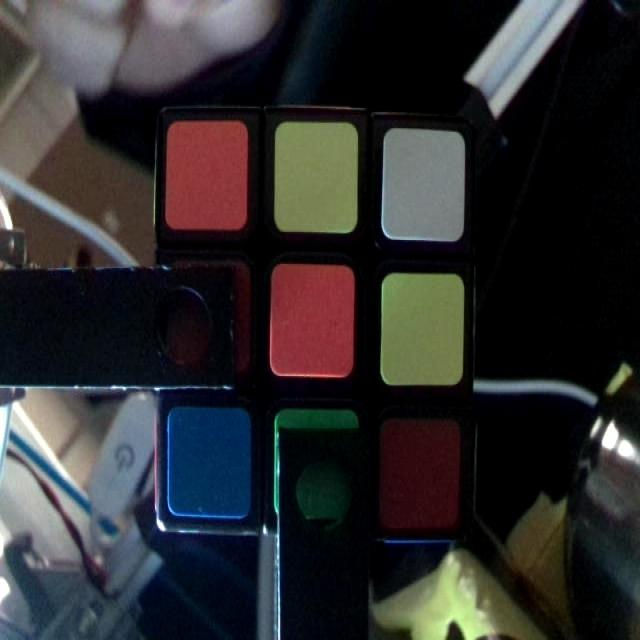b: (168, 410, 248, 519)
g: (276, 413, 358, 528)
o: (274, 264, 350, 372), (167, 124, 246, 227)
r: (167, 259, 245, 370), (381, 422, 454, 528)
w: (384, 129, 464, 242)
y: (278, 122, 357, 234), (384, 275, 464, 383)
